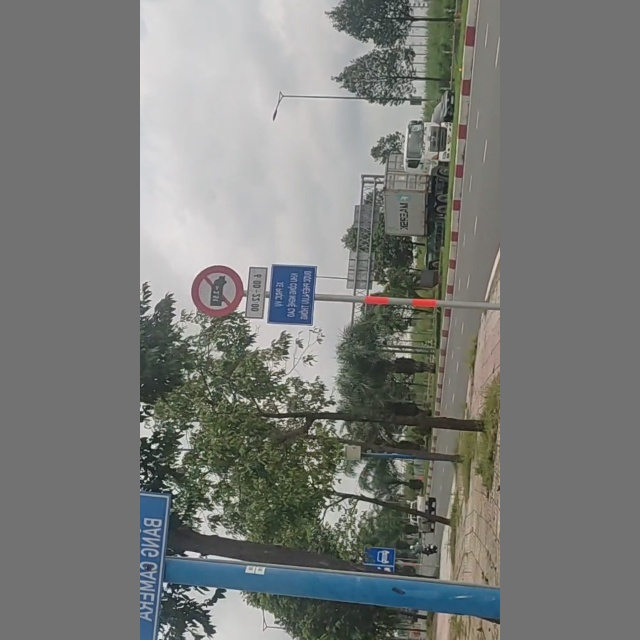P.106a*Xe tai: (192, 265, 244, 316)
